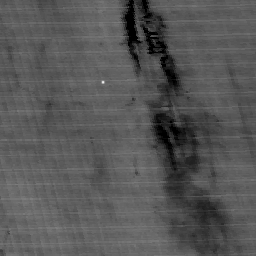Target: (100, 79, 107, 86)
